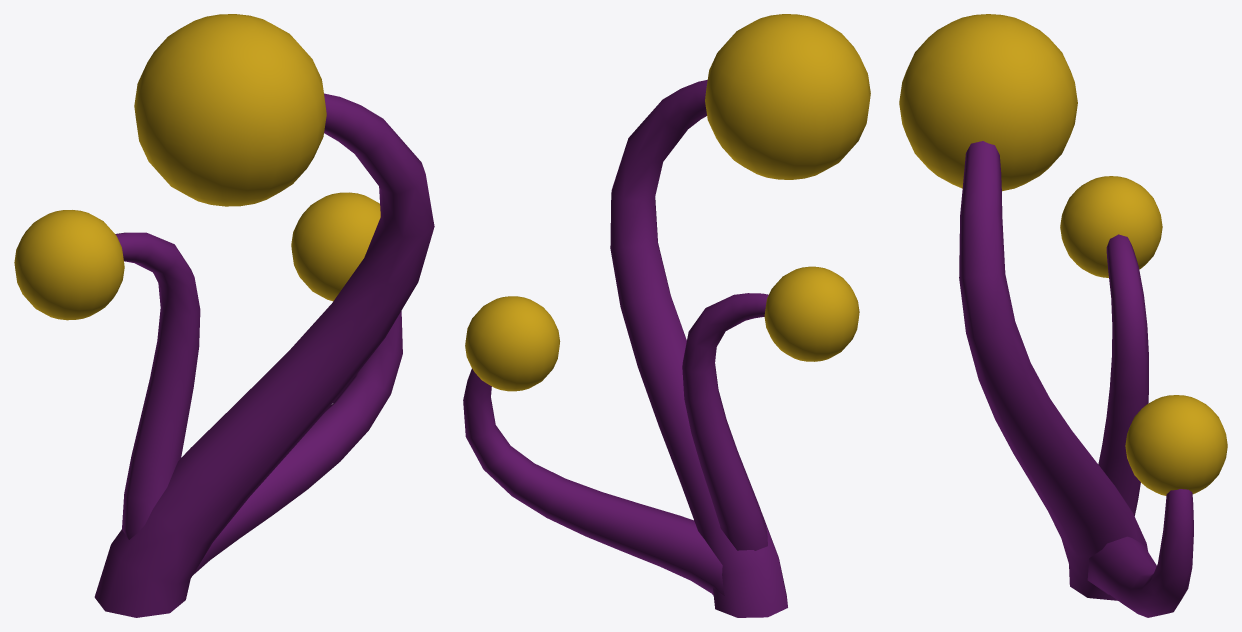
File: usk_Tree_Light-om4BJAL82T.glb
3 views of the same model, side by side, from view 1: azimuth 30°, elevation 25°; view 2: azimuth 150°, elevation 25°; view 3: azimuth 270°, elevation 25° (orthographic). The views are drawn at different scales.
Parts seen in each view (by area): view 1: Tree_Light_1; view 2: Tree_Light_1; view 3: Tree_Light_1.
Part boxes in pixels (x1,y1,x2,y2): Tree_Light_1: [14, 14, 434, 617]; Tree_Light_1: [463, 14, 870, 617]; Tree_Light_1: [899, 14, 1227, 617].
Size of the model in its own units: 2.63 by 3.76 by 1.96.
1 material, 1 textured.
